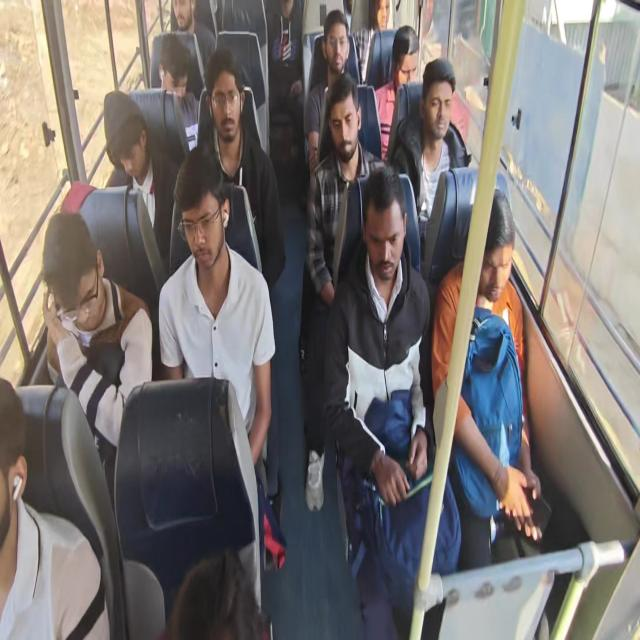person: (36, 1, 548, 637), (322, 164, 462, 638), (431, 188, 543, 570), (158, 146, 276, 486), (298, 74, 386, 511), (41, 210, 152, 504), (0, 376, 110, 638), (194, 48, 286, 290), (389, 56, 471, 242), (103, 89, 176, 277), (195, 0, 269, 154), (162, 547, 271, 639), (303, 9, 358, 175), (374, 24, 420, 160), (266, 0, 304, 155), (157, 35, 200, 151), (170, 0, 216, 101), (348, 0, 391, 84)
